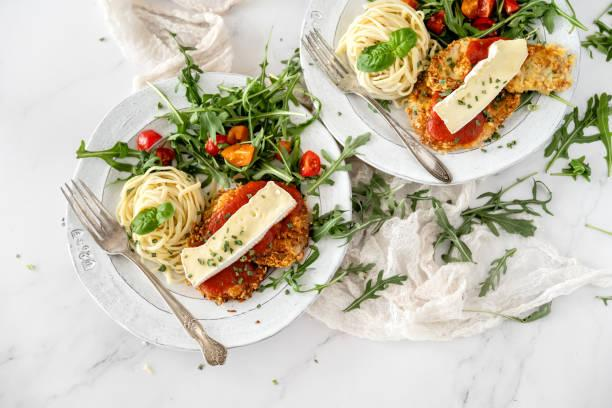Braised Crucian Carp: (65, 73, 348, 351), (299, 0, 574, 187)
